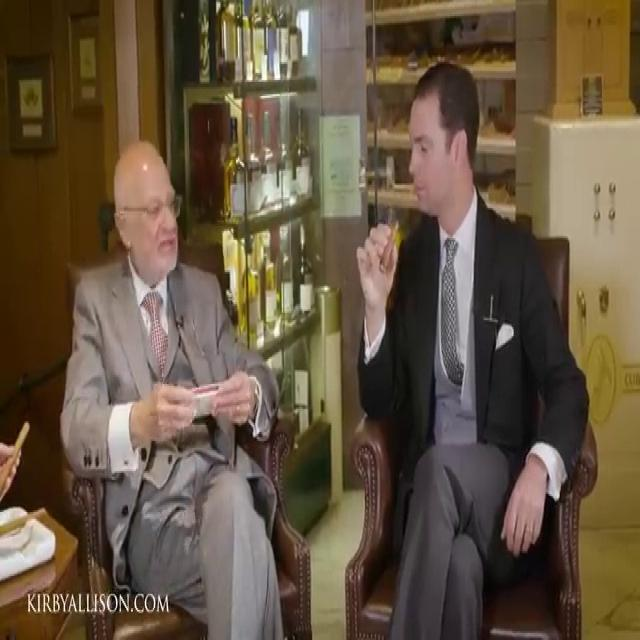Smooking: (383, 217, 401, 280)
